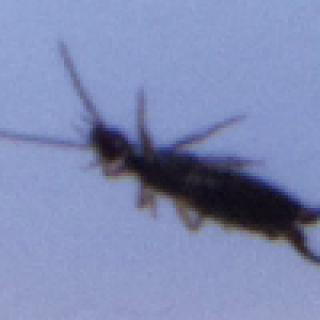earwig: (0, 39, 320, 266)
